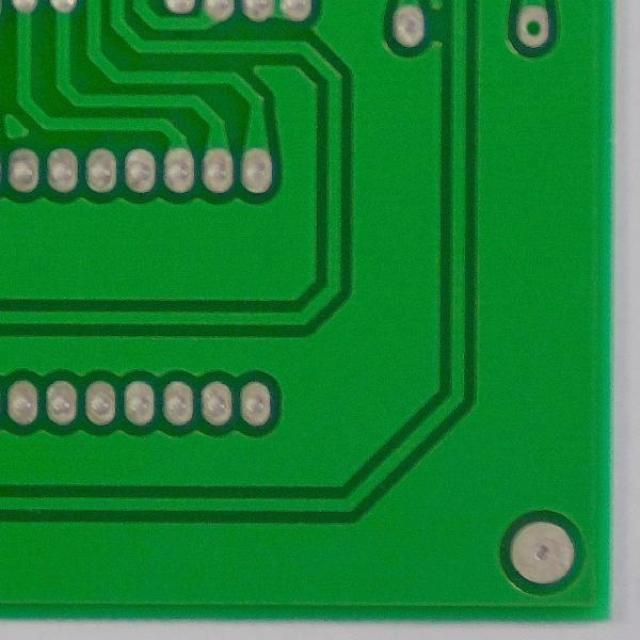Missing_Hole: (511, 1, 555, 51)
